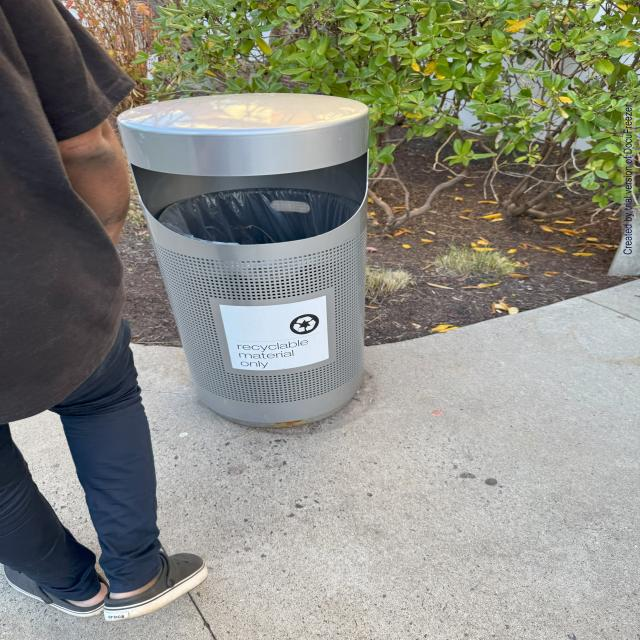Trash bin: (109, 94, 439, 482)
